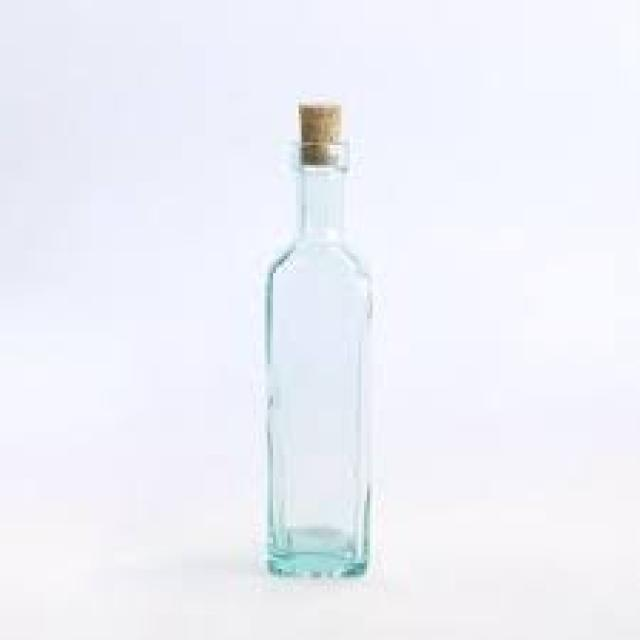Glass: (266, 143, 371, 576)
